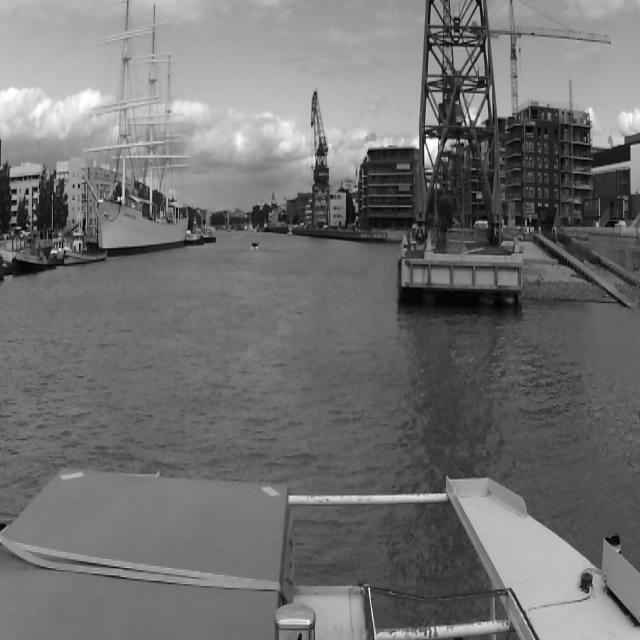ship: (96, 0, 186, 248), (60, 233, 107, 267), (12, 236, 50, 268), (187, 231, 205, 247), (250, 238, 260, 252)
